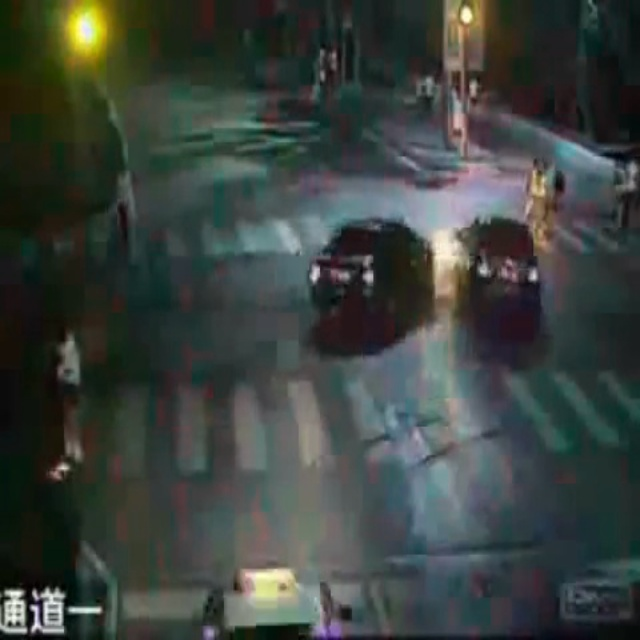acc: (299, 205, 543, 340)
